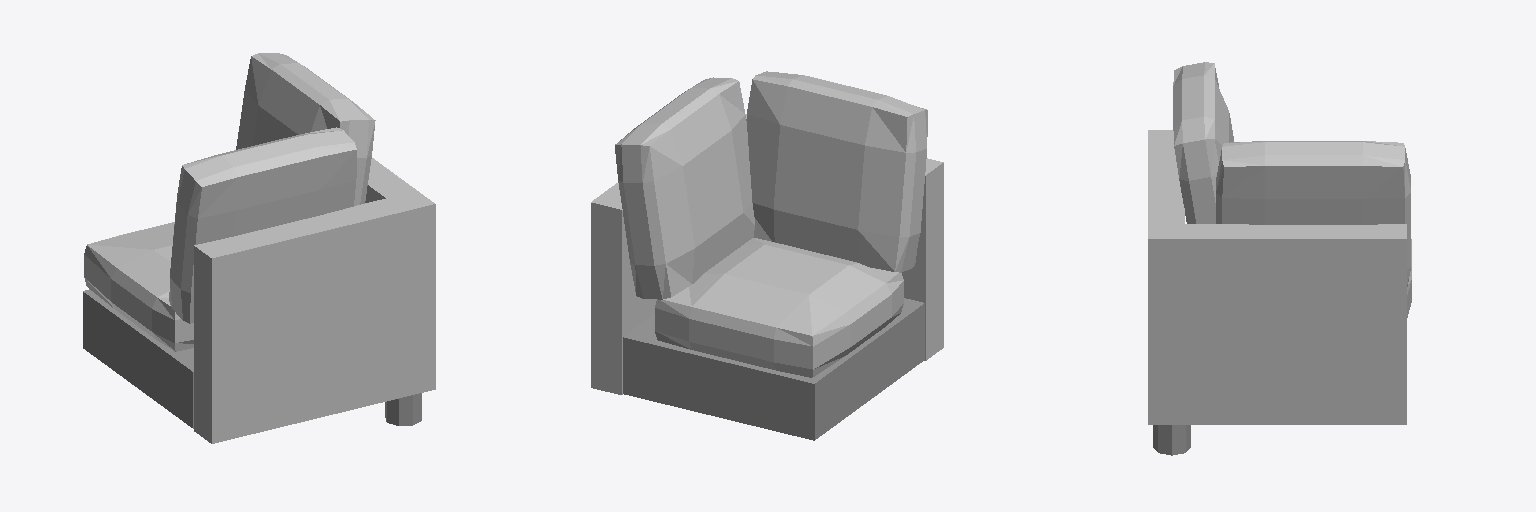
File: simple_sofa_corner.obj
3 renders of one model, left to right at view 1: azimuth 30°, elevation 25°; view 2: azimuth 150°, elevation 25°; view 3: azimuth 270°, elevation 25°, orthographic.
Parts seen in each view (by area): view 1: Cube.004; view 2: Cube.004; view 3: Cube.004.
Part boxes in pixels (x1,y1,x2,y2): Cube.004: (83, 53, 435, 443); Cube.004: (591, 71, 943, 440); Cube.004: (1148, 62, 1411, 455).
Bounding box in the file's own units: 1.82 × 2.23 × 1.82.